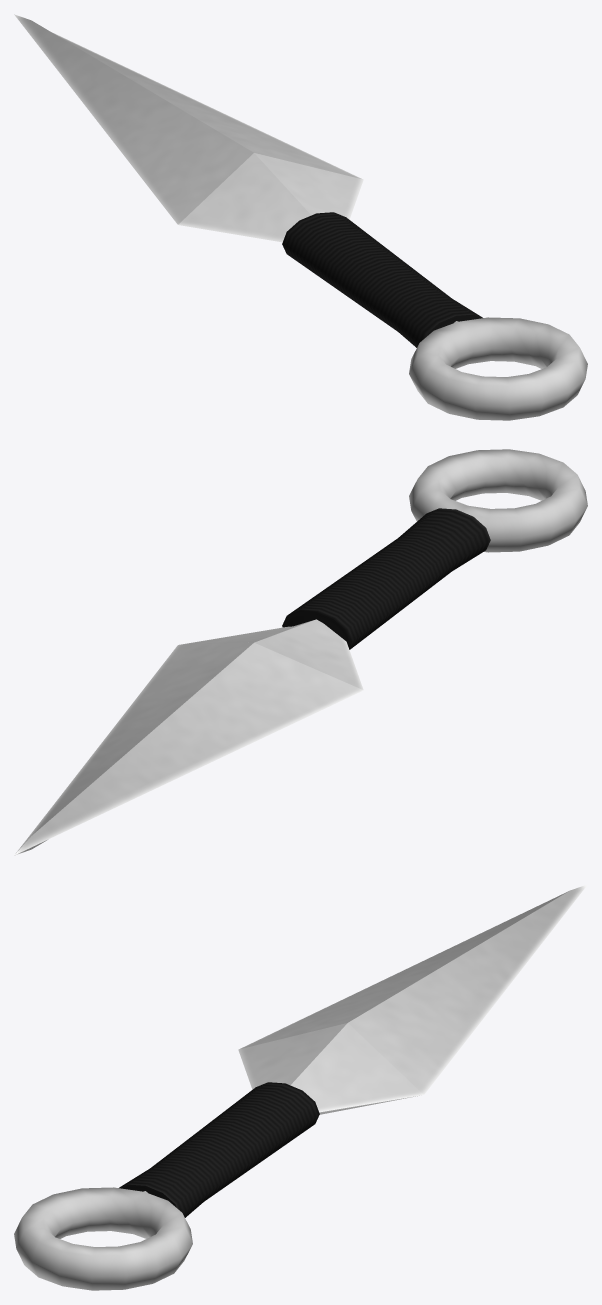
File: knife_7.fbx
3 renders of one model, top to bottom at view 1: azimuth 30°, elevation 25°; view 2: azimuth 150°, elevation 25°; view 3: azimuth 330°, elevation 25°, orthographic.
Visible parts, largest first — view 1: Knife7; view 2: Knife7; view 3: Knife7.
Part boxes in pixels (box(x1,y1,x2,y2)): Knife7: box(14, 14, 587, 420); Knife7: box(14, 449, 587, 855); Knife7: box(14, 884, 587, 1290).
Bounding box in the file's own units: 3.53 × 1.35 × 17.44.
